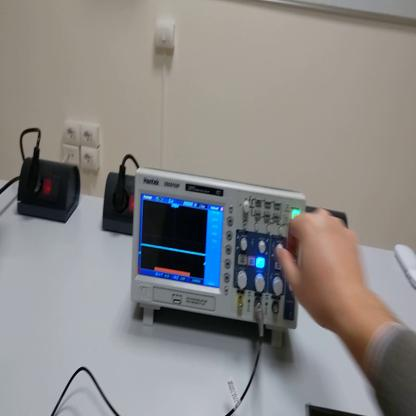hand: (277, 205, 366, 335)
oscilloscope: (133, 166, 309, 348)
socket: (17, 159, 81, 225), (103, 171, 134, 236)
